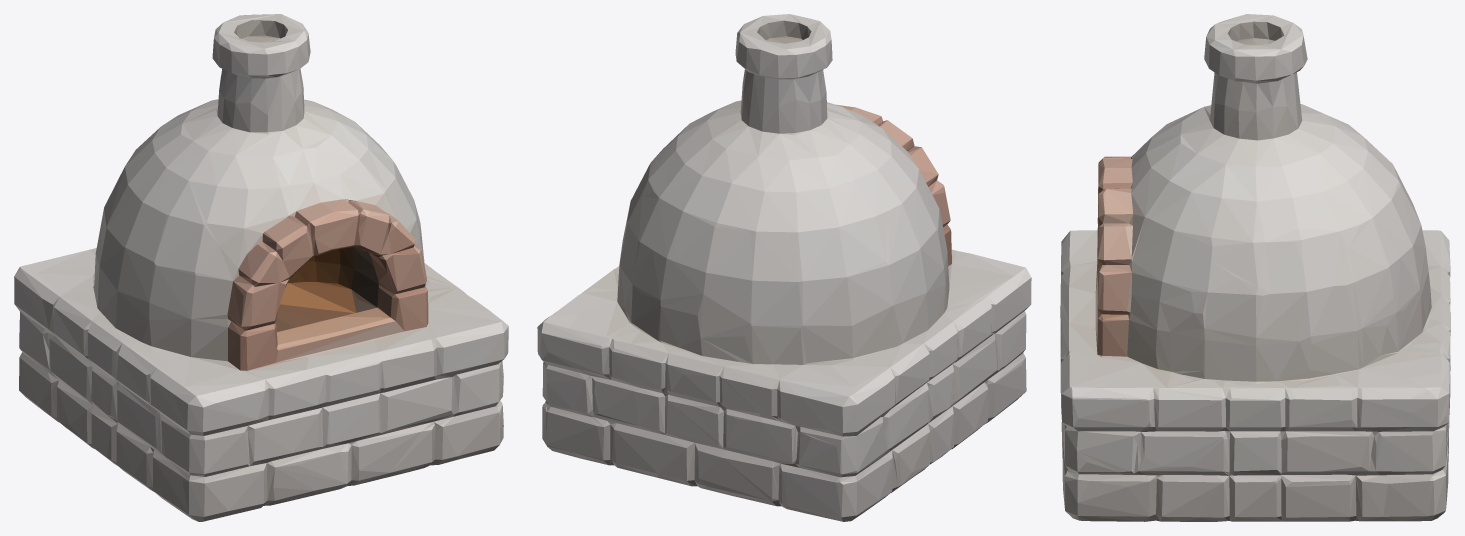
The model's file is bread_oven.glb.
The picture shows the model from 3 angles, left to right: view 1: azimuth 30°, elevation 25°; view 2: azimuth 150°, elevation 25°; view 3: azimuth 270°, elevation 25°; orthographic projection. The views are drawn at different scales.
Parts seen in each view (by area): view 1: Model; view 2: Model; view 3: Model.
Boxes of the visible parts, box(x1,y1,x2,y2) form: Model: box(14, 14, 508, 521); Model: box(537, 14, 1031, 521); Model: box(1060, 14, 1450, 521).
Size of the model in its own units: 1.65 by 1.91 by 1.64.
